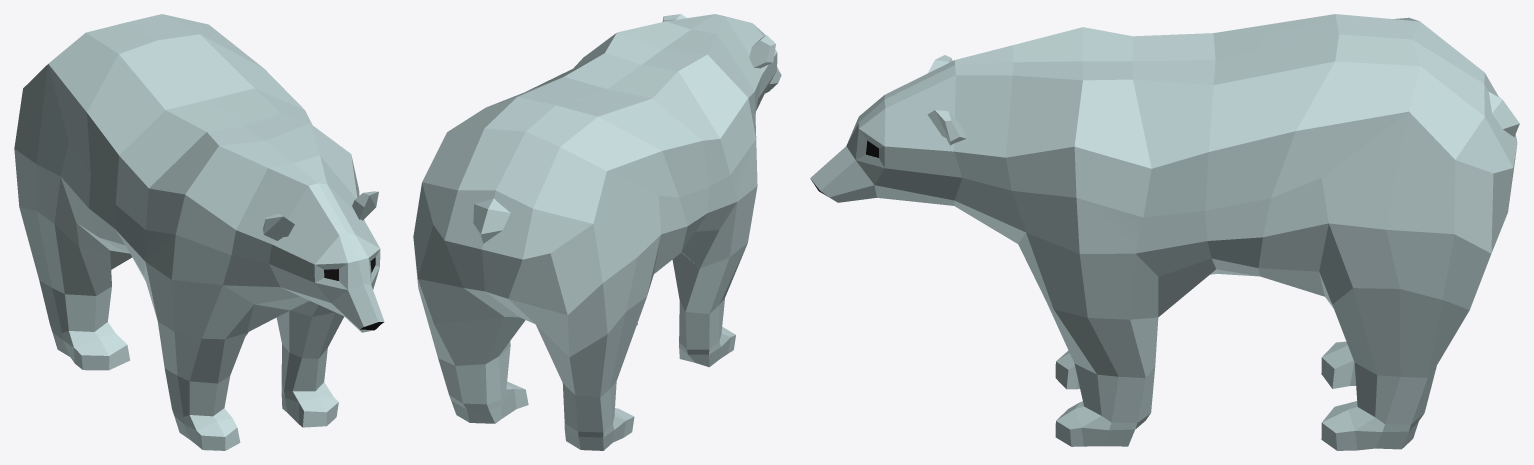
The model's file is animals_bear_white.fbx.
3 renders of one model, left to right at view 1: azimuth 30°, elevation 25°; view 2: azimuth 150°, elevation 25°; view 3: azimuth 270°, elevation 25°, orthographic. The views are drawn at different scales.
Visible parts, largest first — view 1: animals_bear_white; view 2: animals_bear_white; view 3: animals_bear_white.
Part boxes in pixels (x1,y1,x2,y2): animals_bear_white: (14, 14, 384, 450); animals_bear_white: (413, 14, 781, 450); animals_bear_white: (810, 14, 1519, 450).
Size of the model in its own units: 79.25 by 116 by 200.
